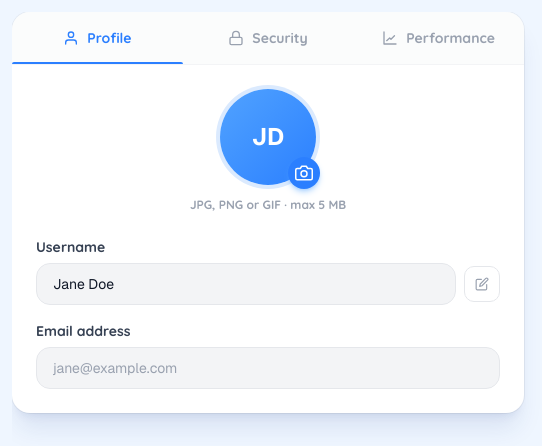
Test: AccountCard – username editing › cancel restores the original username
The image size is (542, 446).
Click the button named "edit username". click: (482, 284)
box: [464,266,500,302]
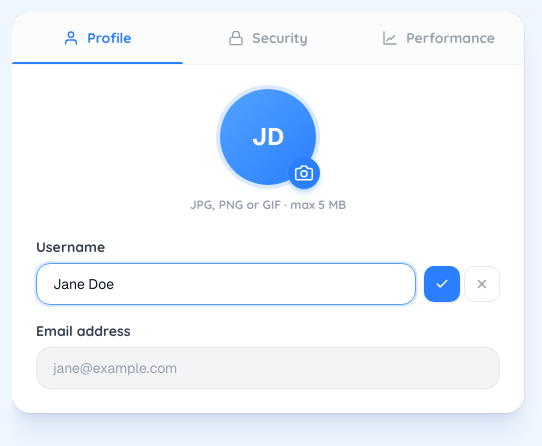
Replace the text in the field labelled "Username" with "New Name". click: (226, 284)
box: [36,263,416,305]
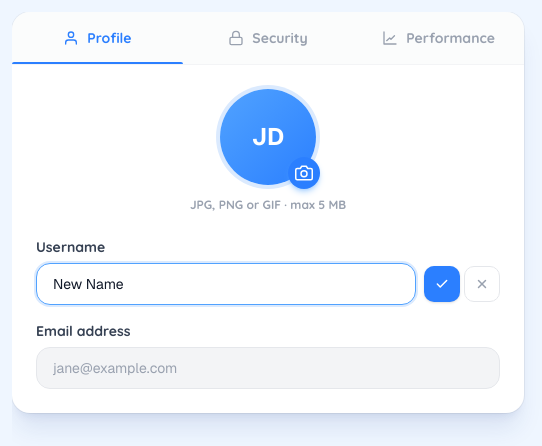
Click the button named "cancel". click: (482, 284)
box: [464,266,500,302]
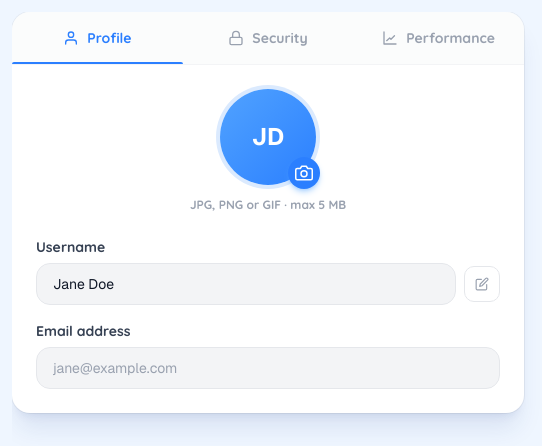
Check: the field showing "Jane Doe" is shown, box [36,263,456,305]
